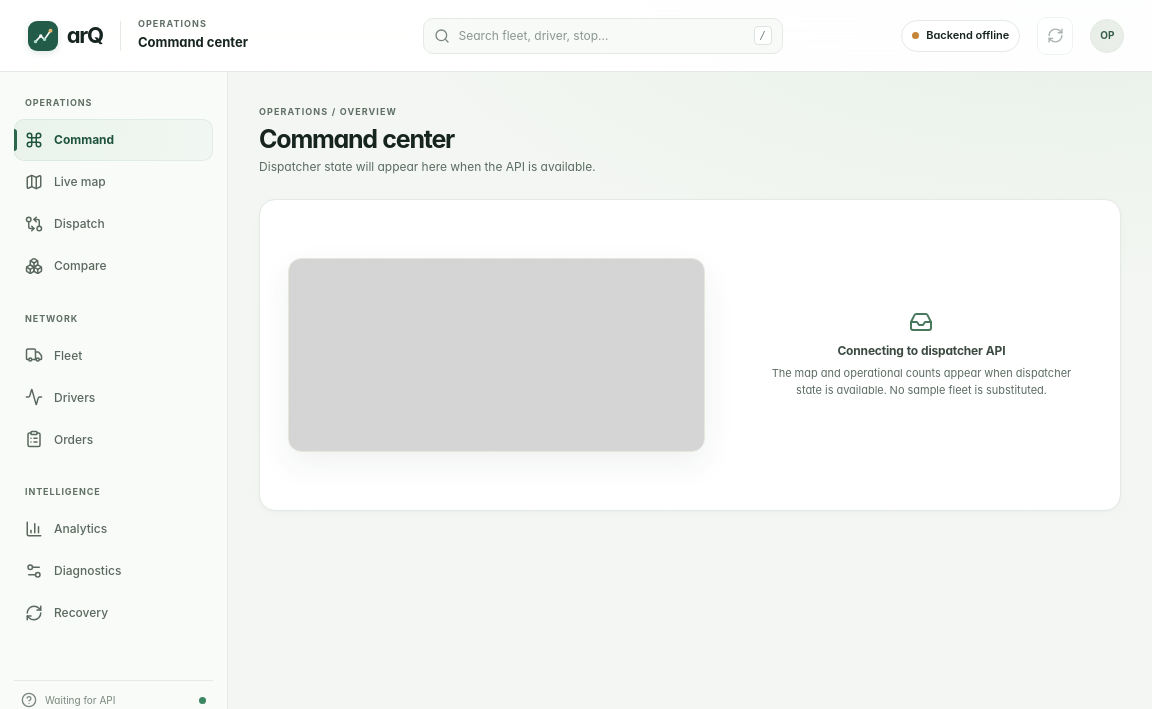
Scenario: Integrated operator journey (API boundary mocked) › submits the edited scenario to validation and QAOA, then renders the returned backend job
Click the button "Dispatch" at (114, 224), box x1=14 y1=202 x2=213 y2=244
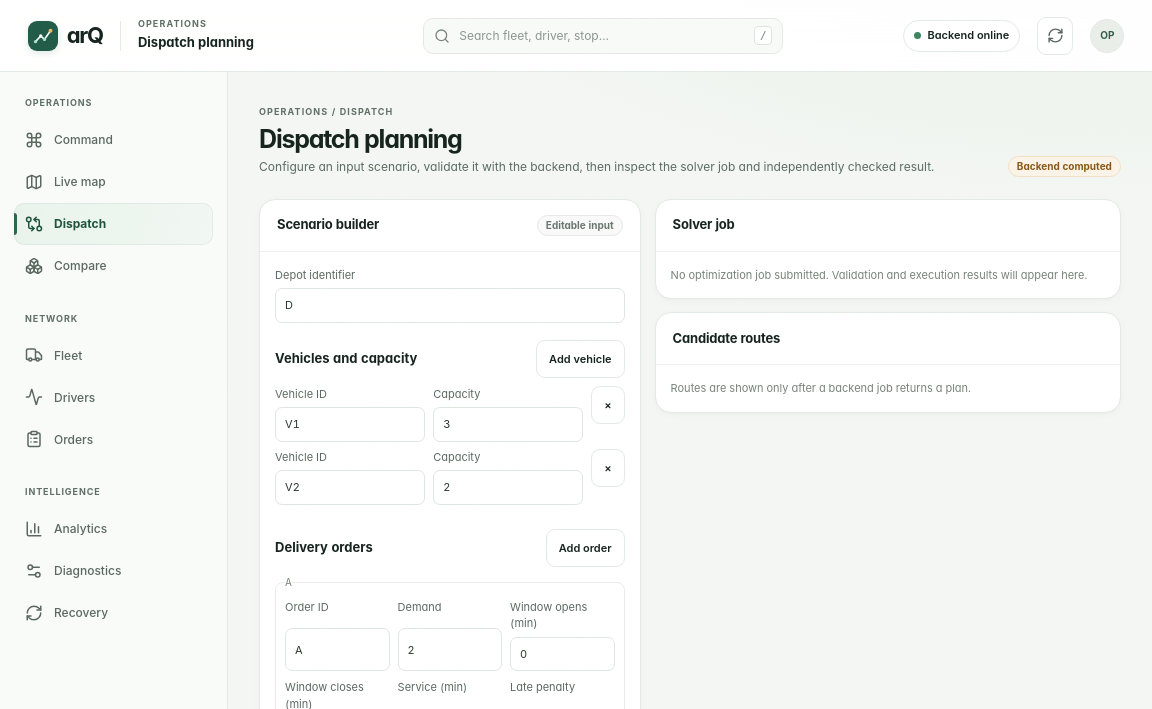
Now the heading "Dispatch planning" is shown, box x1=259 y1=124 x2=462 y2=154
Replace the text in the field labelled "Depot identifier" with "DEPOT-X" at (450, 305), box x1=275 y1=288 x2=625 y2=323
(page scrolled)
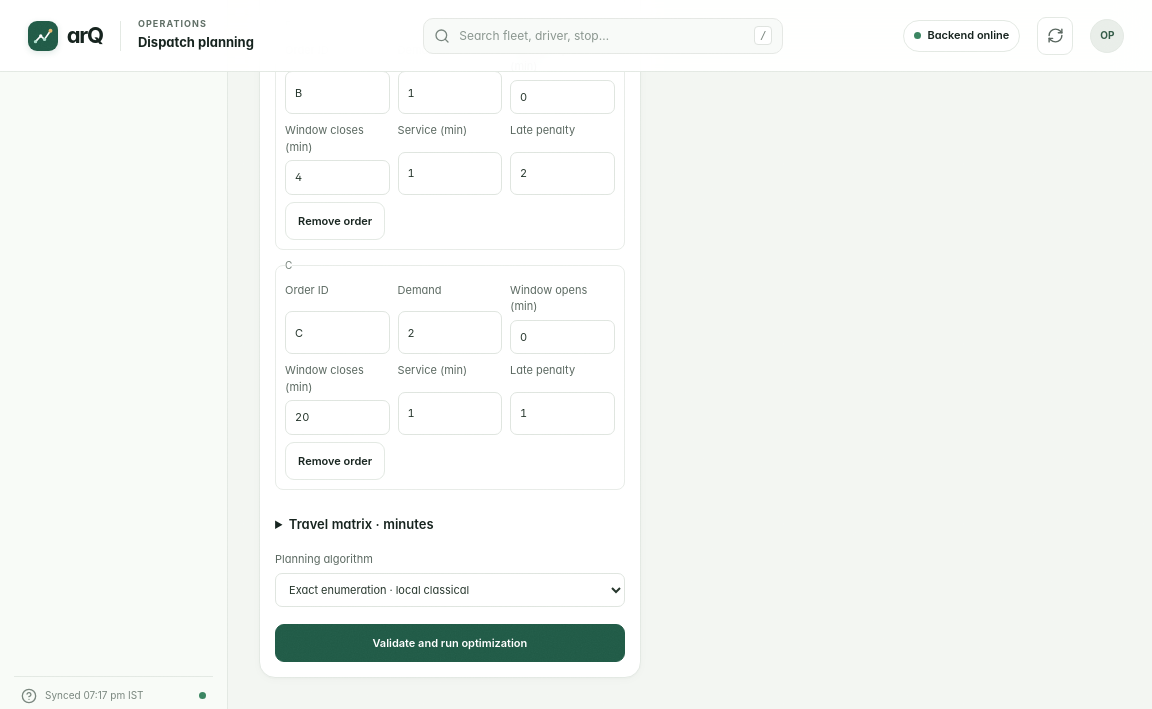
Select "Warm-start QAOA · local simulator" in the dropdown labelled "Planning algorithm" at (450, 590), box x1=275 y1=573 x2=625 y2=607
(page scrolled)
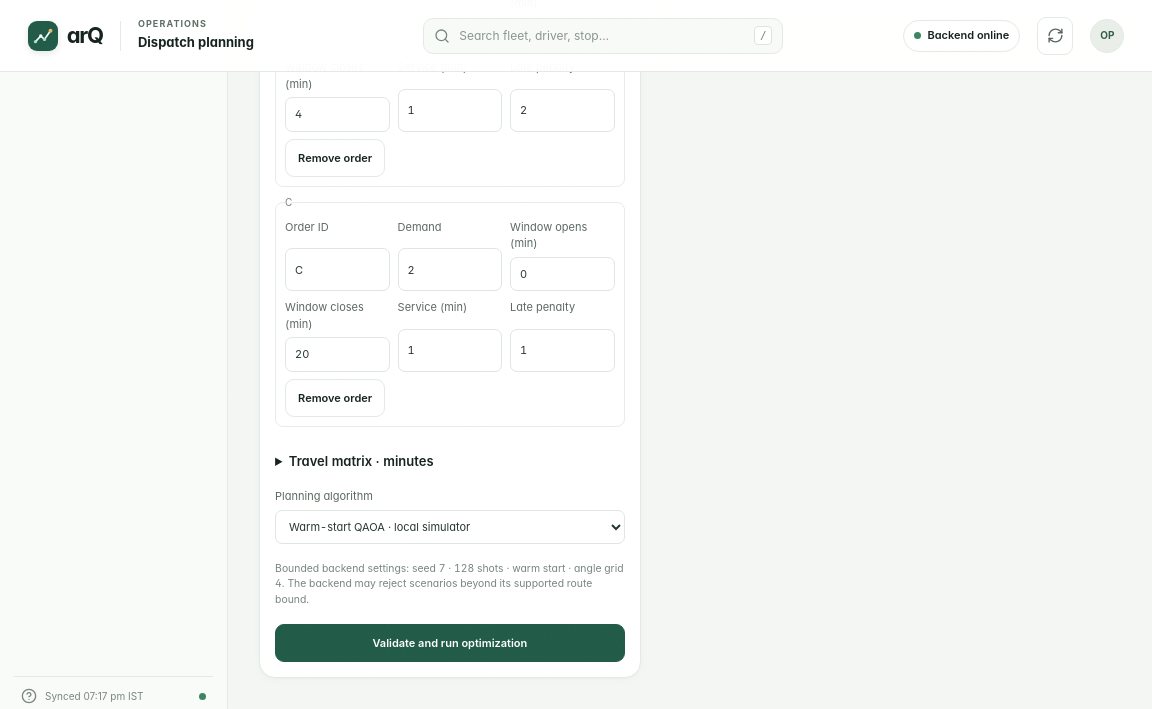
Click the button "Validate and run optimization" at (450, 644), box x1=275 y1=624 x2=625 y2=662
(page scrolled)
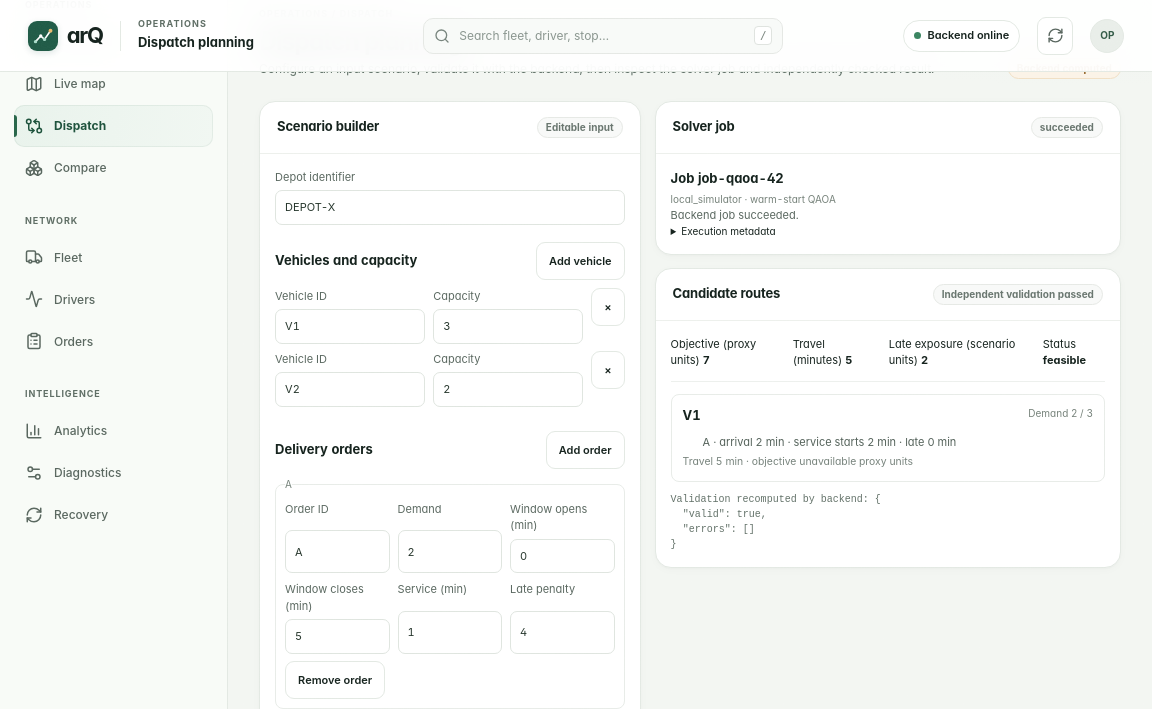
Now the text "Job job-qaoa-42" is shown, box x1=671 y1=170 x2=784 y2=186
Now the text "Backend job succeeded." is shown, box x1=671 y1=208 x2=799 y2=222
Now the text "7" is shown, box x1=703 y1=353 x2=710 y2=367
